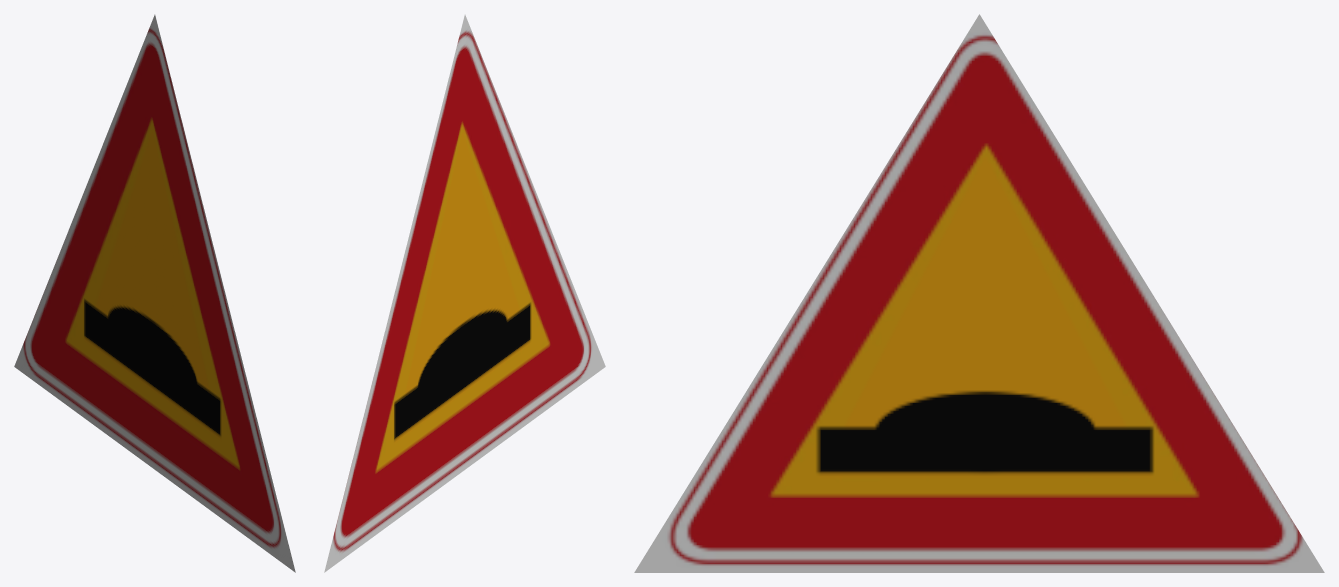
The model's file is triangle_face.dae.
3 views of the same model, side by side, from view 1: azimuth 30°, elevation 25°; view 2: azimuth 150°, elevation 25°; view 3: azimuth 270°, elevation 25° (orthographic). The views are drawn at different scales.
Visible parts, largest first — view 1: panel-node; view 2: panel-node; view 3: panel-node.
Part boxes in pixels (x1,y1,x2,y2): panel-node: (14,14,295,572); panel-node: (324,14,605,572); panel-node: (634,14,1324,572).
Bounding box in the file's own units: 0 × 0.28 × 0.25.
1 material, 1 textured.
